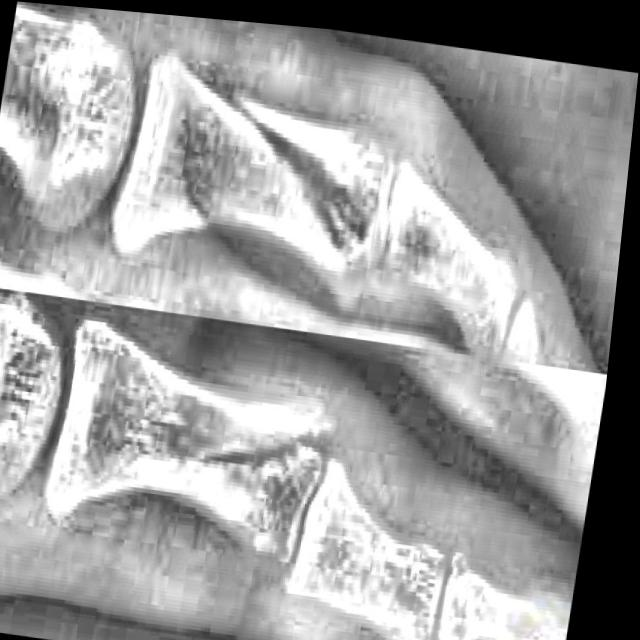fracture: (206, 82, 393, 246), (128, 381, 352, 516)
